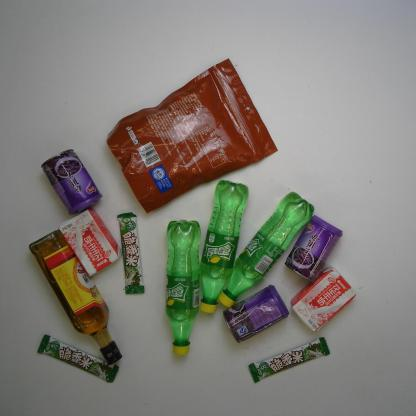Canned Food: (40, 148, 104, 218), (222, 282, 290, 346), (283, 213, 344, 282)
Chocolate: (36, 333, 121, 385), (247, 334, 332, 385), (116, 211, 146, 297)
Dried Food: (104, 57, 280, 216)
Drink: (217, 190, 315, 309), (198, 179, 250, 315), (164, 218, 202, 358)
Milk: (289, 264, 358, 335), (57, 207, 122, 280)
Seasoner: (28, 229, 126, 367)
